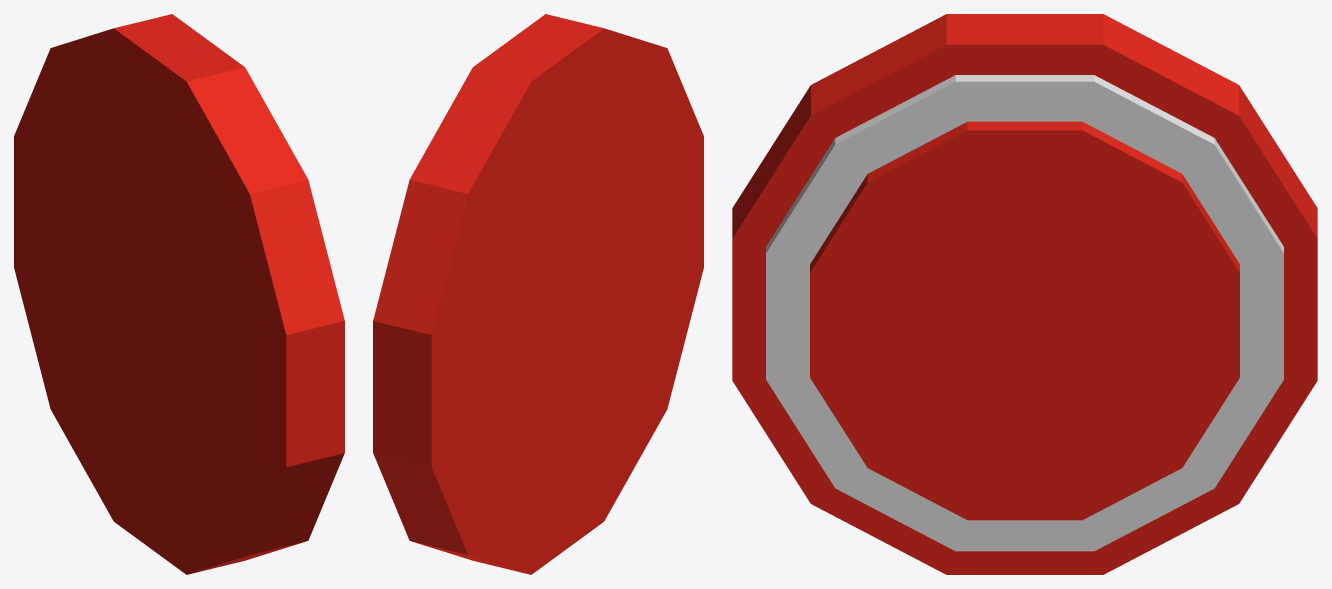
File: target.fbx
The picture shows the model from 3 angles, left to right: view 1: azimuth 30°, elevation 25°; view 2: azimuth 150°, elevation 25°; view 3: azimuth 270°, elevation 25°; orthographic projection. The views are drawn at different scales.
Visible parts, largest first — view 1: Cylinder; view 2: Cylinder; view 3: Cylinder.002, Cylinder, Cylinder.001.
Boxes of the visible parts, <box> form: Cylinder: <box>14,14,344,574</box>; Cylinder: <box>373,14,703,574</box>; Cylinder.002: <box>810,121,1239,520</box>; Cylinder: <box>732,14,1317,574</box>; Cylinder.001: <box>766,75,1283,551</box>.
Size of the model in its own units: 101 by 18.87 by 101.
